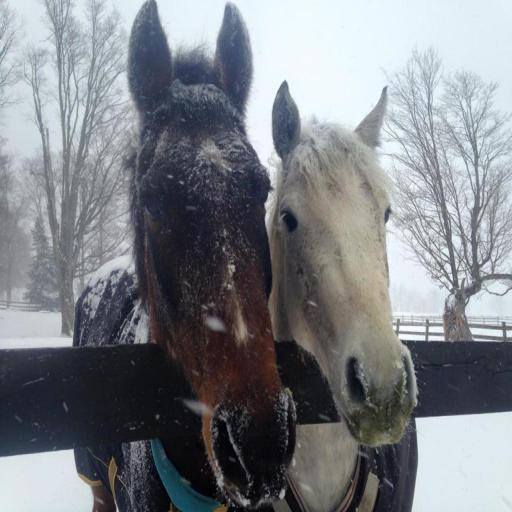Horse: (90, 0, 302, 511), (267, 78, 422, 512)
